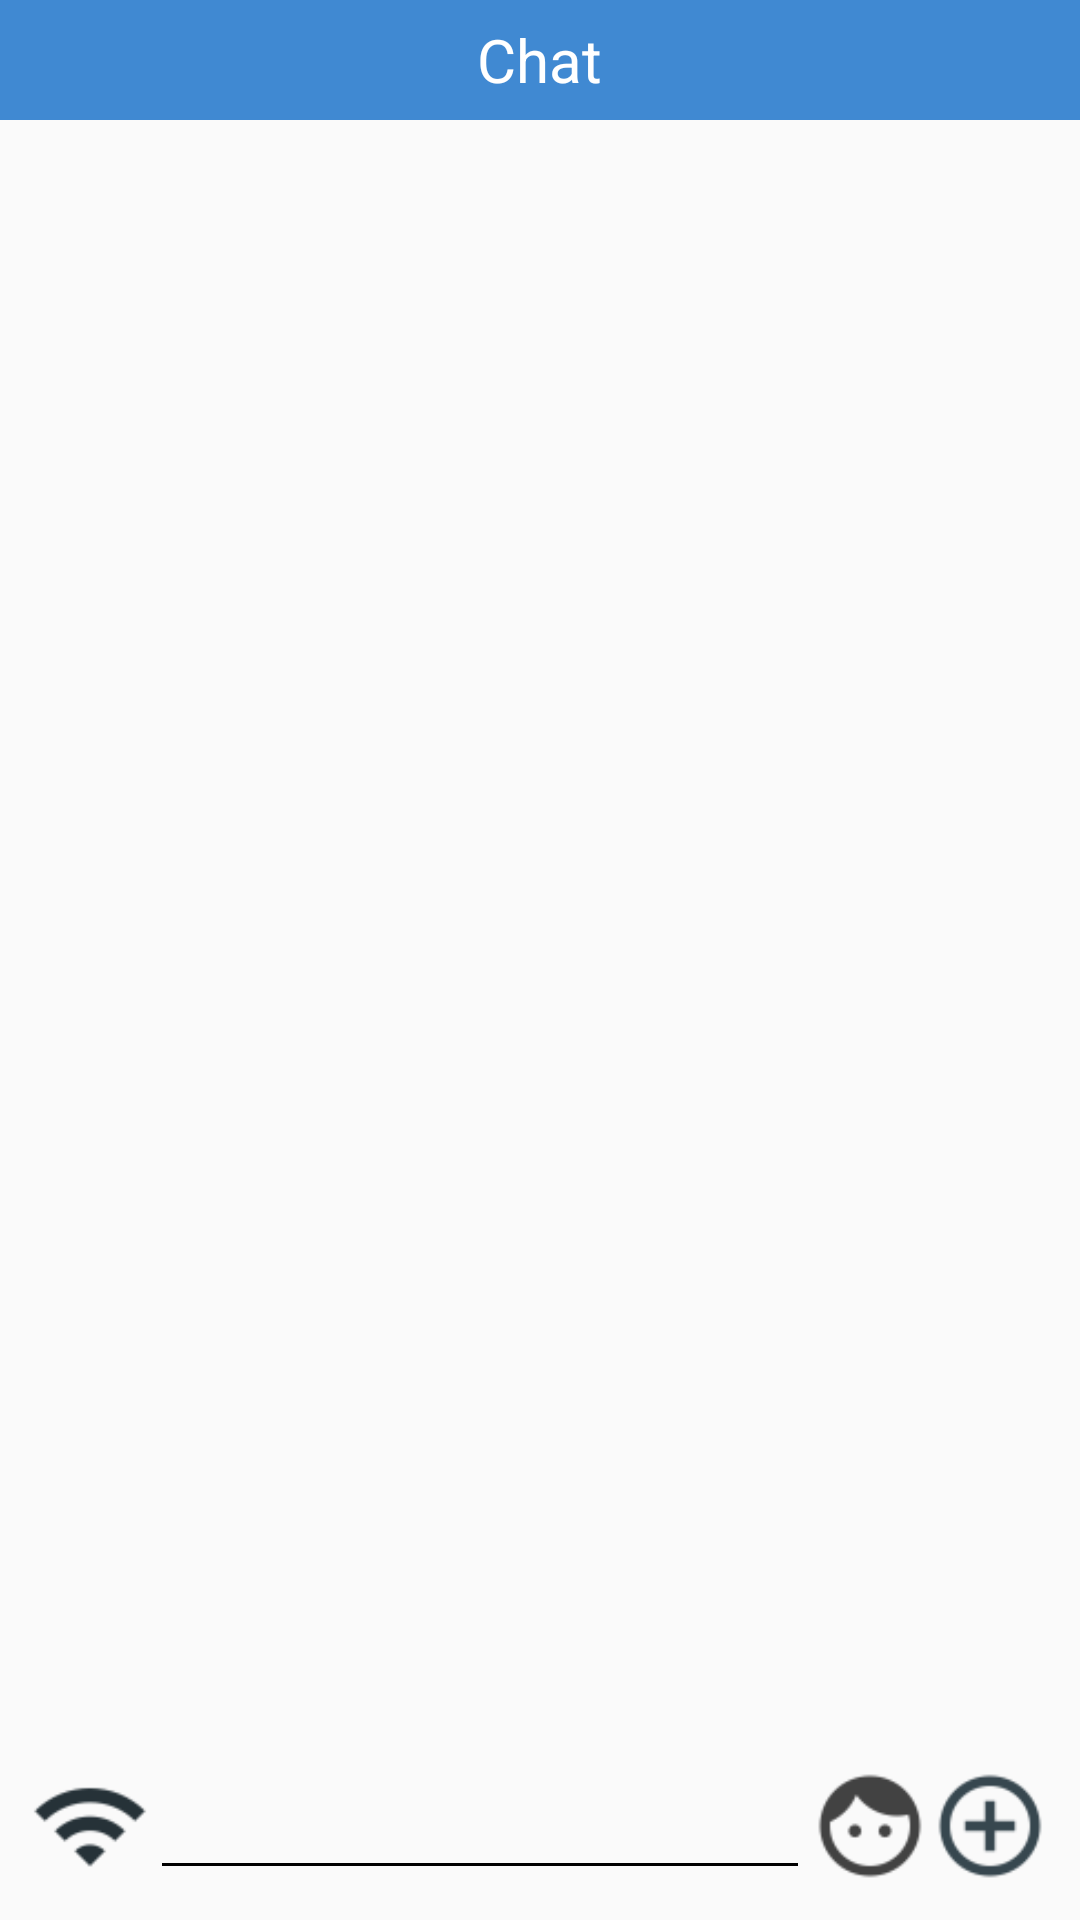

Locate icon controls on the screen. Image size 1080 x 1920, boxes as detection(x1, y1, x2, y2).
add circle: detection(938, 1774, 1042, 1878)
face: detection(818, 1774, 922, 1878)
wifi: detection(34, 1787, 146, 1867)
